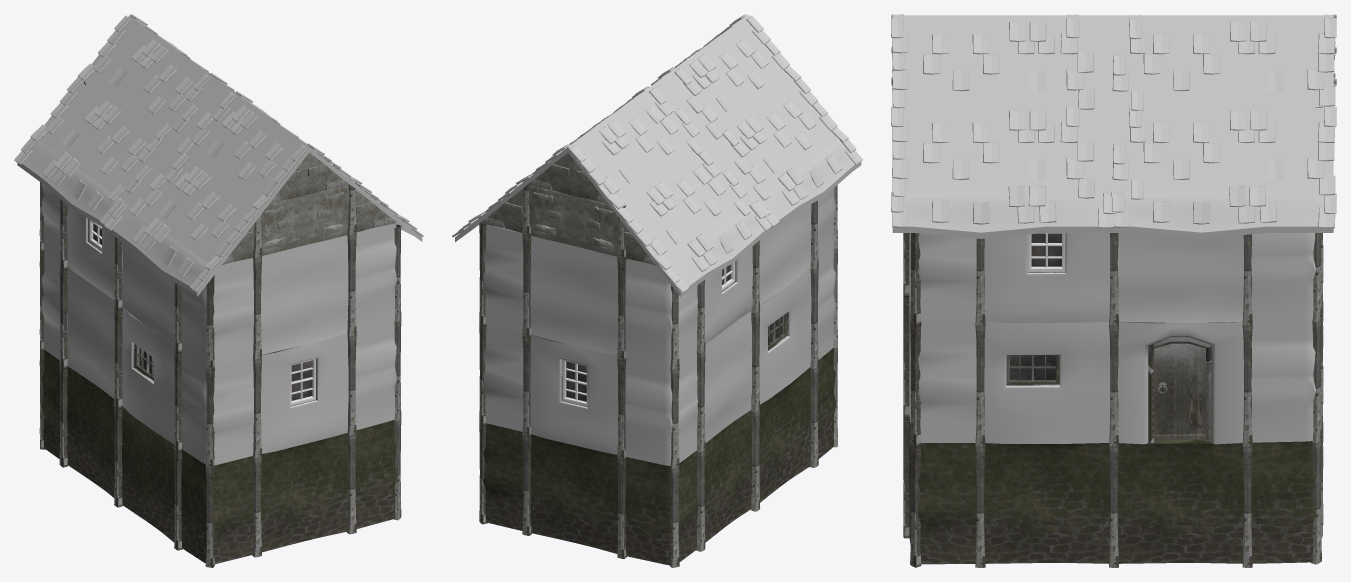
Rendered from Village2_houe2.fbx.
The picture shows the model from 3 angles, left to right: view 1: azimuth 30°, elevation 25°; view 2: azimuth 150°, elevation 25°; view 3: azimuth 270°, elevation 25°; orthographic projection. The views are drawn at different scales.
Visible parts, largest first — view 1: Wall.020, Wall.014, Wall.013, Underground.009, Wall.031, roof.115, roof.116, roof.113, roof.114, Wall.033, Underground, Wall.037 (+46 smaller); view 2: Wall.012, Wall.011, Wall.010, Underground.007, Wall.034, roof.116, roof.114, roof.115, roof.113, Wall.036, Underground, Underground.008 (+45 smaller); view 3: Underground.006, Underground.011, roof.106, roof.105, roof.102, roof.099, Wall.017, Wall.028, Wall.027, Wall.024, Underground.005, Wall.018 (+35 smaller).
Boxes of the visible parts, x1,y1,x2,y2 form: Wall.020: [261, 235, 348, 354]; Wall.014: [261, 433, 348, 552]; Wall.013: [261, 334, 348, 453]; Underground.009: [181, 449, 253, 564]; Wall.031: [181, 350, 253, 465]; roof.115: [172, 81, 309, 211]; roof.116: [87, 15, 219, 141]; roof.113: [125, 142, 262, 272]; roof.114: [40, 79, 171, 202]; Wall.033: [181, 258, 253, 366]; Underground: [122, 407, 174, 542]; Wall.037: [122, 308, 174, 443]; Wall.012: [530, 236, 618, 355]; Wall.011: [530, 434, 618, 553]; Wall.010: [530, 335, 618, 454]; Underground.007: [625, 450, 697, 565]; Wall.034: [625, 351, 697, 465]; roof.116: [568, 81, 705, 212]; roof.114: [615, 142, 752, 273]; roof.115: [658, 15, 791, 141]; roof.113: [706, 78, 839, 202]; Wall.036: [625, 258, 697, 366]; Underground: [759, 367, 810, 502]; Underground.008: [704, 410, 751, 542]; Underground.006: [1117, 443, 1243, 563]; Underground.011: [984, 443, 1110, 563]; roof.106: [1113, 15, 1333, 104]; roof.105: [892, 15, 1113, 104]; roof.102: [1113, 104, 1333, 192]; roof.099: [903, 104, 1113, 192]; Wall.017: [984, 322, 1110, 443]; Wall.028: [1117, 233, 1243, 323]; Wall.027: [984, 233, 1110, 322]; Wall.024: [1117, 322, 1243, 444]; Underground.005: [1251, 441, 1316, 563]; Wall.018: [1251, 320, 1316, 442].
Size of the model in its own units: 488 by 813 by 667.
